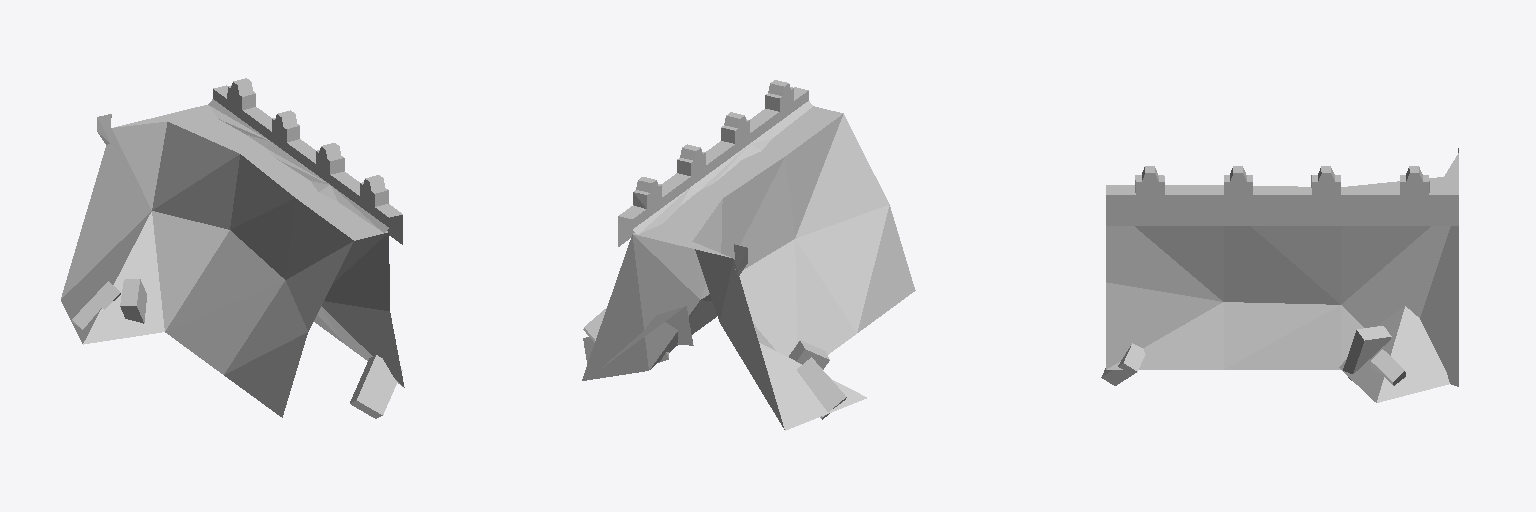
File: templeStraightNarrowLongLeftAVert_prefab.obj
3 views of the same model, side by side, from view 1: azimuth 30°, elevation 25°; view 2: azimuth 150°, elevation 25°; view 3: azimuth 270°, elevation 25° (orthographic).
Parts seen in each view (by area): view 1: Object214-Pivot; view 2: Object214-Pivot; view 3: Object214-Pivot.
Part boxes in pixels (bbox=[...]): Object214-Pivot: bbox=[61, 78, 404, 418]; Object214-Pivot: bbox=[582, 80, 915, 430]; Object214-Pivot: bbox=[1101, 148, 1458, 402].
Bounding box in the file's own units: 53.73 × 42.12 × 60.9.